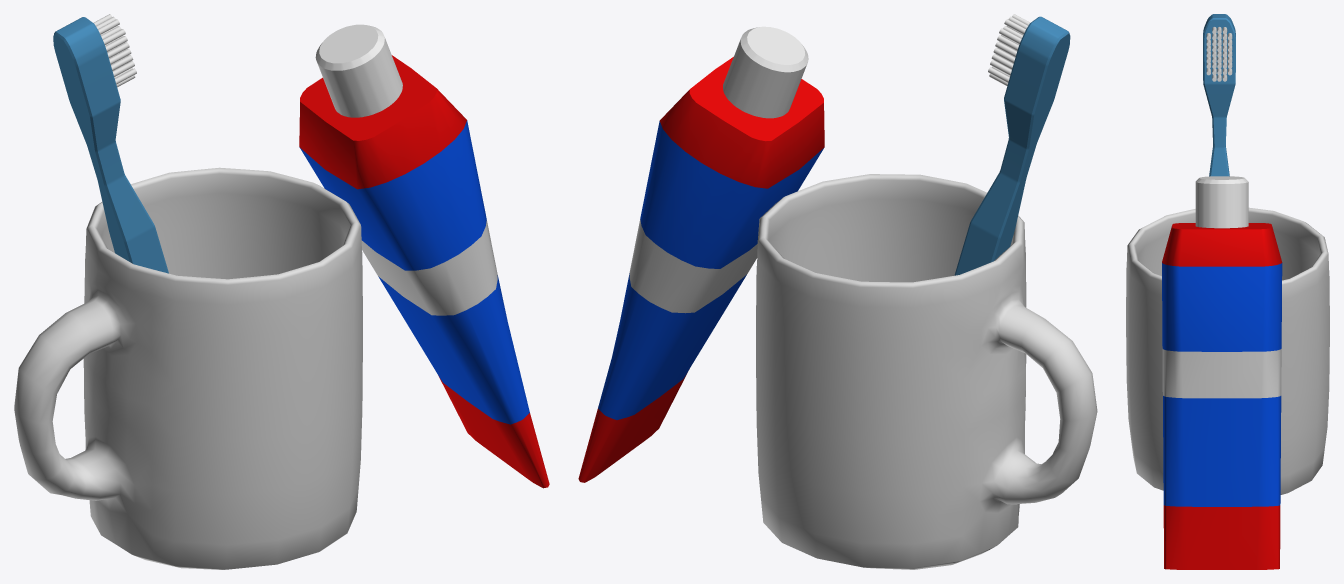
Rendered from Toothbrush_Paste_Mug.fbx.
3 renders of one model, left to right at view 1: azimuth 30°, elevation 25°; view 2: azimuth 150°, elevation 25°; view 3: azimuth 270°, elevation 25°, orthographic. The views are drawn at different scales.
Parts seen in each view (by area): view 1: Mug, Toothpaste, Toothbrush; view 2: Mug, Toothpaste, Toothbrush; view 3: Toothpaste, Mug, Toothbrush.
Part boxes in pixels (x1,y1,x2,y2): Mug: (14, 167, 362, 569); Toothpaste: (299, 24, 549, 488); Toothbrush: (53, 14, 168, 273); Mug: (756, 174, 1097, 569); Toothpaste: (578, 26, 824, 482); Toothbrush: (954, 14, 1070, 275); Toothpaste: (1162, 176, 1282, 569); Mug: (1126, 207, 1329, 494); Toothbrush: (1203, 14, 1235, 176).
Size of the model in its own units: 0.1957 by 0.2095 by 0.0955.
